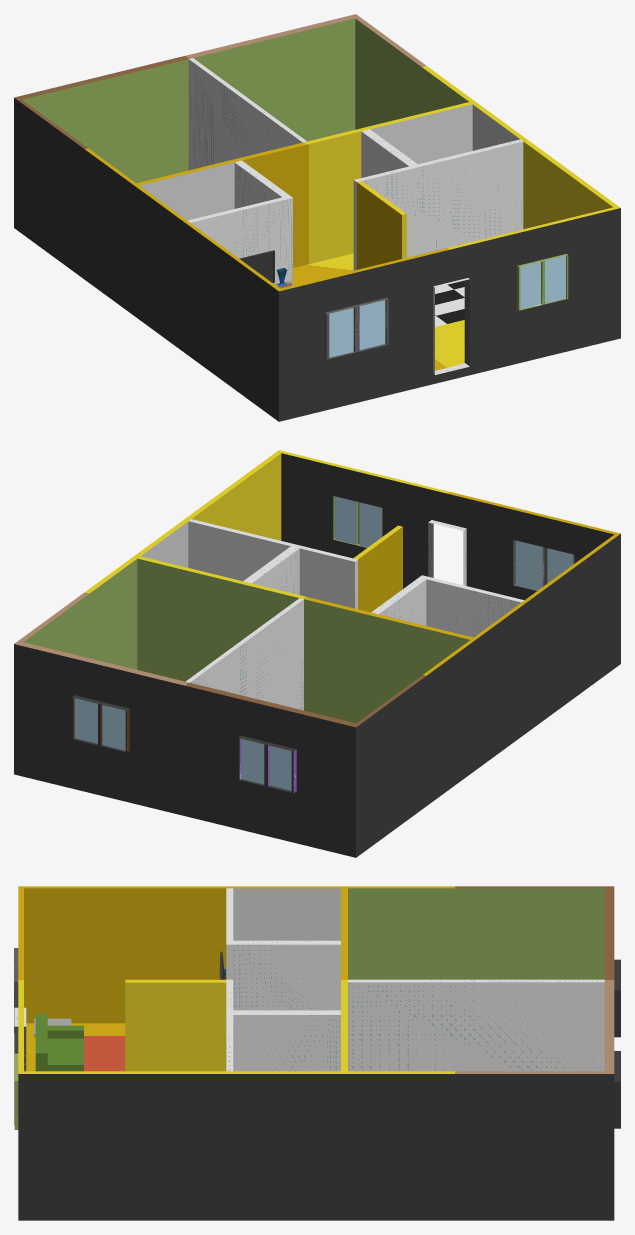
Rendered from modern_house.glb.
The picture shows the model from 3 angles, top to bottom: view 1: azimuth 30°, elevation 25°; view 2: azimuth 150°, elevation 25°; view 3: azimuth 270°, elevation 25°; orthographic projection. The views are drawn at different scales.
Parts seen in each view (by area): view 1: Cube; view 2: Cube; view 3: Cube.
Boxes of the visible parts, x1,y1,x2,y2 form: Cube: [14, 14, 620, 421]; Cube: [14, 450, 620, 857]; Cube: [14, 886, 620, 1220].
Bounding box in the file's own units: 11.93 × 4.35 × 16.3.
1 material, 1 textured.
